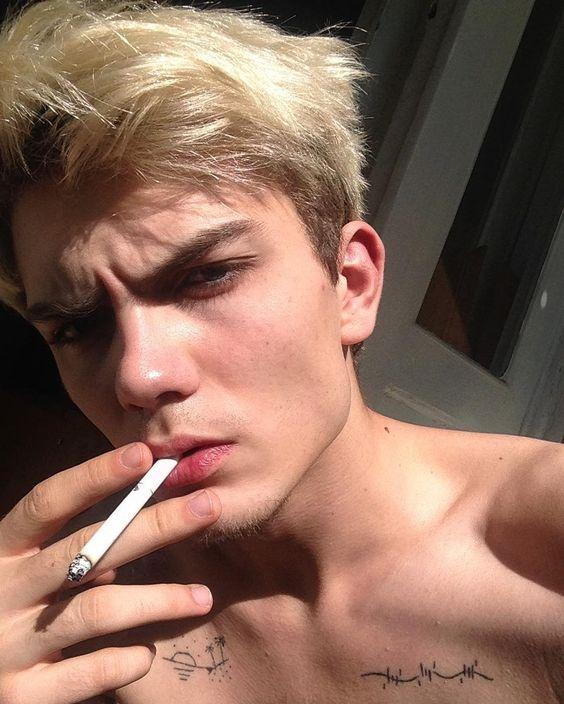cigarette: (68, 455, 183, 583)
